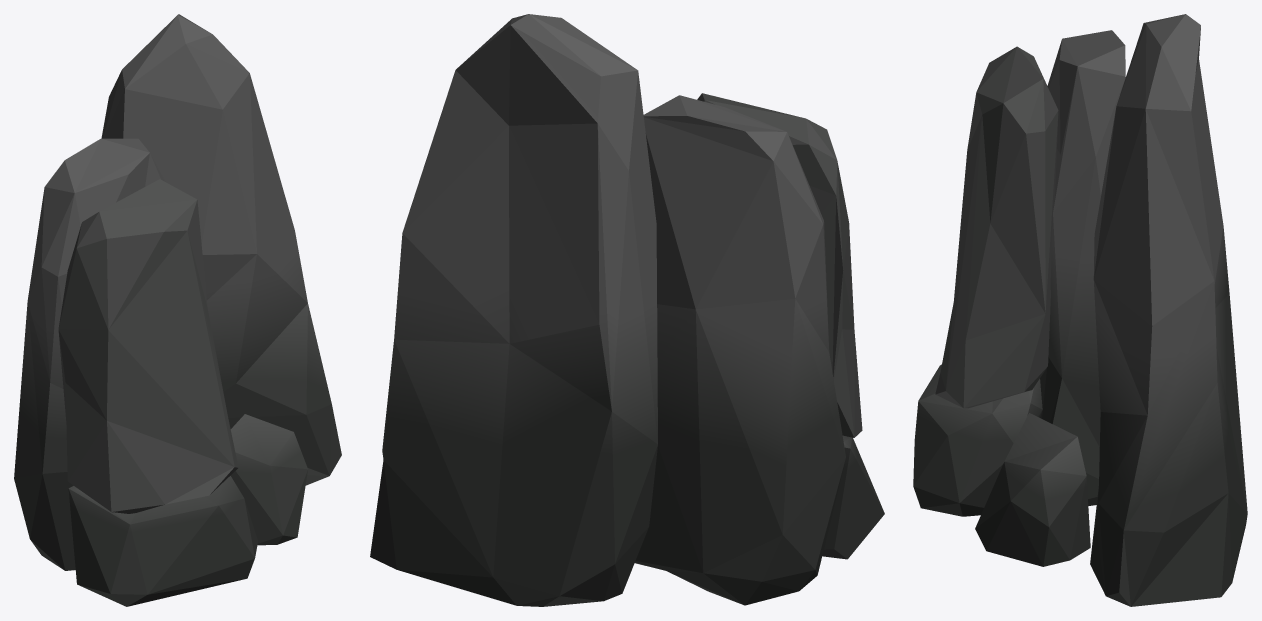
Rendered from rock1.fbx.
3 renders of one model, left to right at view 1: azimuth 30°, elevation 25°; view 2: azimuth 150°, elevation 25°; view 3: azimuth 270°, elevation 25°, orthographic. The views are drawn at different scales.
Visible parts, largest first — view 1: rock1_LOD0; view 2: rock1_LOD0; view 3: rock1_LOD0.
Part boxes in pixels (x1,y1,x2,y2): rock1_LOD0: (14, 14, 341, 606); rock1_LOD0: (370, 14, 884, 606); rock1_LOD0: (913, 14, 1247, 606).
Size of what is drawn, in the model's own units: 4.62 by 6.19 by 3.59.
